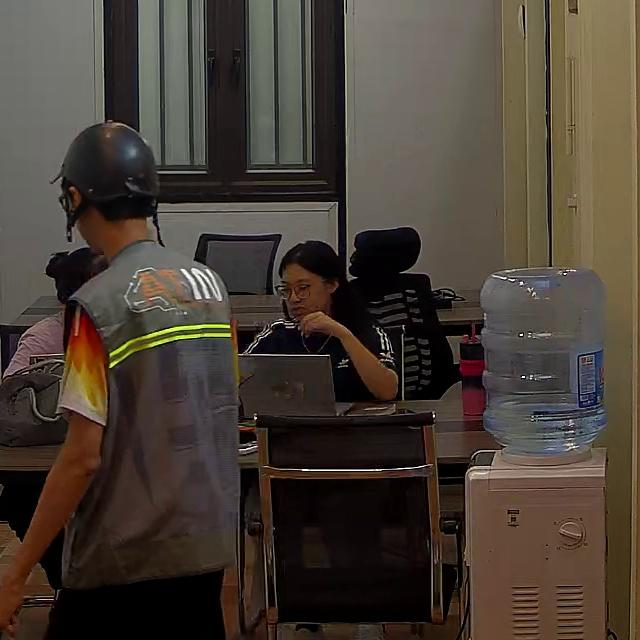helmet: (51, 121, 161, 240)
no_helmet: (46, 247, 103, 304), (280, 240, 341, 283)
none: (240, 314, 398, 405)
vest: (61, 244, 244, 588)
